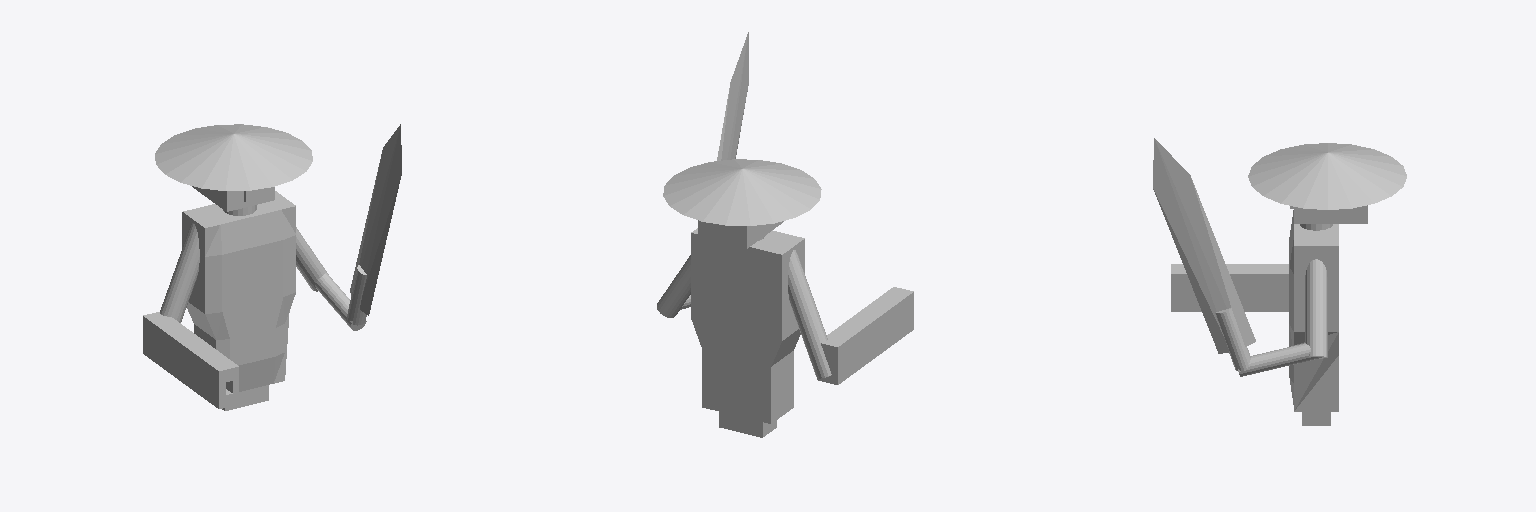
File: Captain_OBJ.obj
3 views of the same model, side by side, from view 1: azimuth 30°, elevation 25°; view 2: azimuth 150°, elevation 25°; view 3: azimuth 270°, elevation 25° (orthographic).
Visible parts, largest first — view 1: pasted__pCone2 group1; view 2: pasted__pCone2 group1; view 3: pasted__pCone2 group1.
Part boxes in pixels (x1,y1,x2,y2): pasted__pCone2 group1: (143,124,401,410); pasted__pCone2 group1: (657,32,913,437); pasted__pCone2 group1: (1153,138,1406,425).
Bounding box in the file's own units: 0.7964 × 1.32 × 0.9589.